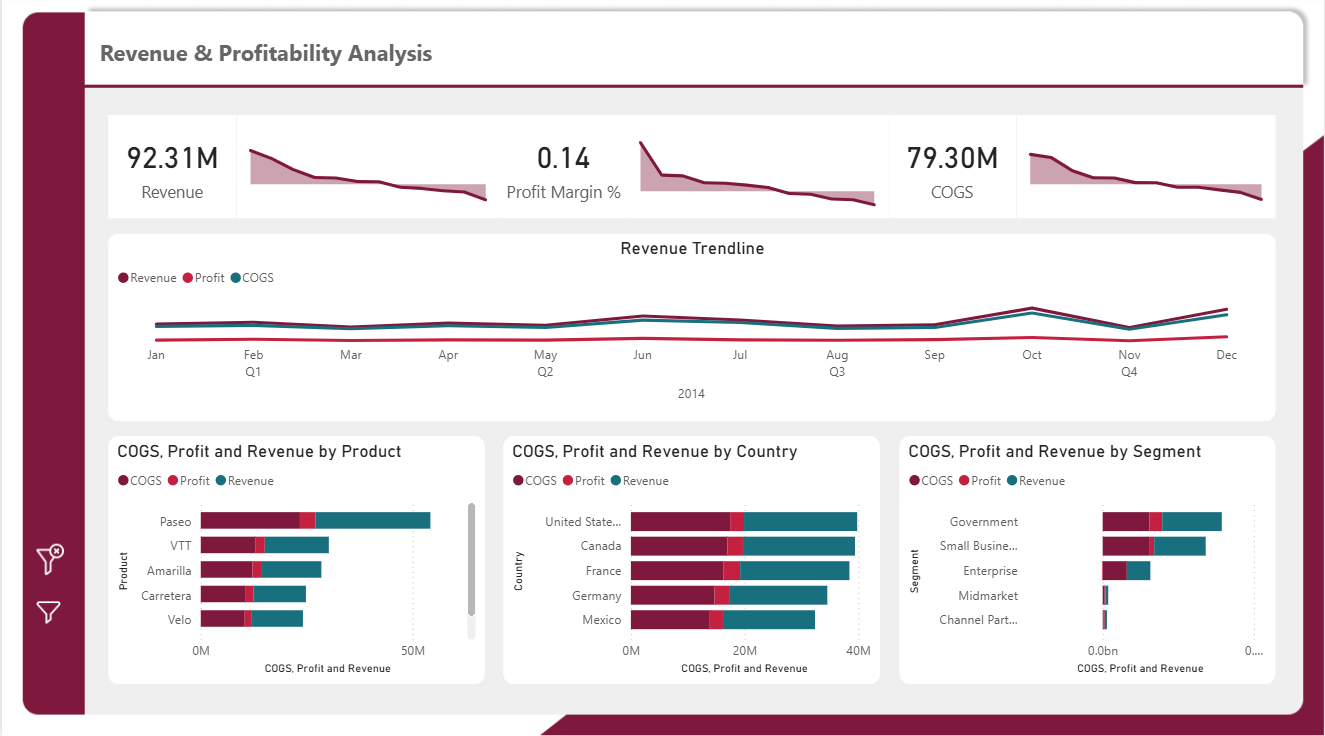

The dashboard page shown, as its layout file describes it:
{"tool":"powerbi","page":{"name":"Page 1","canvas":[1280,720],"ordinal":0},"visuals":[{"type":"card","fields":{"Values":["_Measures.Revenue"]},"box":[102.9,115.7,124.3,100],"z":0},{"type":"stackedAreaChart","fields":{"Category":["Dim_Date.Month Year Label"],"Y":["_Measures.Profit MOM"]},"box":[605.7,115.7,252.9,100],"z":1000},{"type":"card","fields":{"Values":["_Measures.Profit Margin %"]},"box":[481.4,115.7,124.3,100],"z":2000},{"type":"stackedAreaChart","fields":{"Category":["Dim_Date.Month Year Label"],"Y":["_Measures.Revenue MOM"]},"box":[227.1,115.7,254.3,100],"z":3000},{"type":"card","fields":{"Values":["_Measures.COGS"]},"box":[858.6,115.7,124.3,100],"z":4000},{"type":"stackedAreaChart","fields":{"Category":["Dim_Date.Month Year Label"],"Y":["_Measures.COGS MOM"]},"box":[982.9,115.7,250,100],"z":5000},{"type":"lineChart","title":"Revenue Trendline","fields":{"Y":["_Measures.Revenue","_Measures.Profit","_Measures.COGS"],"Category":["Dim_Date.Year","Dim_Date.Quarter","Dim_Date.Month Short"]},"box":[102.9,230.7,1130,181.4],"z":6000},{"type":"barChart","fields":{"Category":["financials.Country"],"Y":["_Measures.COGS","_Measures.Profit","_Measures.Revenue"]},"box":[485.7,427.1,365,240],"z":7000},{"type":"barChart","fields":{"Category":["financials.Product"],"Y":["_Measures.COGS","_Measures.Profit","_Measures.Revenue"]},"box":[102.9,427.1,365,240],"z":8000},{"type":"barChart","fields":{"Category":["financials.Segment"],"Y":["_Measures.COGS","_Measures.Profit","_Measures.Revenue"]},"box":[868.6,427.1,364.3,240],"z":9000},{"type":"image","box":[31.4,577.1,27.1,40],"z":10000},{"type":"textbox","box":[90,35.7,398.7,40],"z":11000},{"type":"image","box":[31.4,527.1,30,40],"z":13000}]}

Visuals, with their boxes in screenshot pixels (x1, y1, x2, y2), scaled from the page's 1280x720 canvas onto the 1325x736 screenshot:
card - _Measures.Revenue: box=[107, 118, 235, 220]
stackedAreaChart - Dim_Date.Month Year Label x _Measures.Profit MOM: box=[627, 118, 889, 220]
card - _Measures.Profit Margin %: box=[498, 118, 627, 220]
stackedAreaChart - Dim_Date.Month Year Label x _Measures.Revenue MOM: box=[235, 118, 498, 220]
card - _Measures.COGS: box=[889, 118, 1017, 220]
stackedAreaChart - Dim_Date.Month Year Label x _Measures.COGS MOM: box=[1017, 118, 1276, 220]
"Revenue Trendline" lineChart: box=[107, 236, 1276, 421]
barChart - financials.Country x _Measures.COGS: box=[503, 437, 881, 682]
barChart - financials.Product x _Measures.COGS: box=[107, 437, 484, 682]
barChart - financials.Segment x _Measures.COGS: box=[899, 437, 1276, 682]
image: box=[33, 590, 61, 631]
textbox: box=[93, 36, 506, 77]
image: box=[33, 539, 64, 580]
